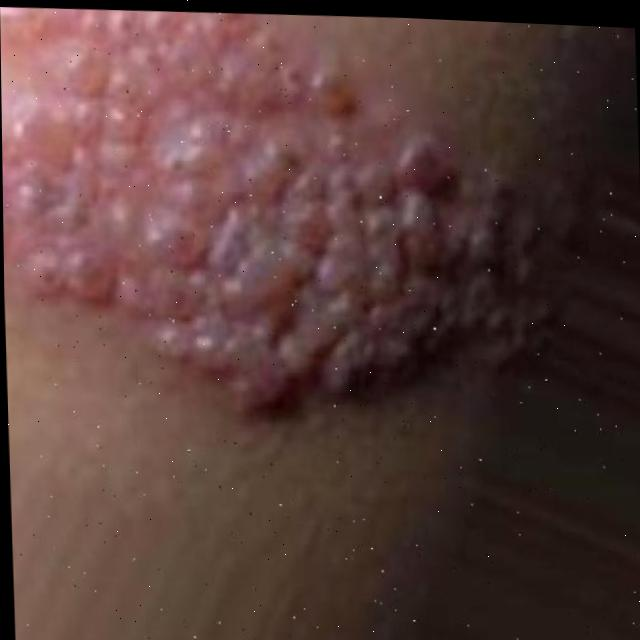Shingles: (0, 0, 504, 394)
